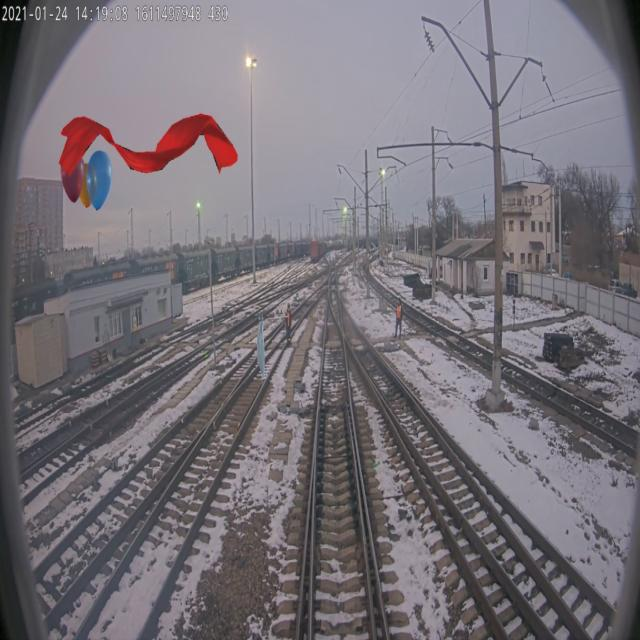balloon: (60, 147, 113, 210)
floating object: (58, 113, 238, 177), (256, 314, 270, 378)
